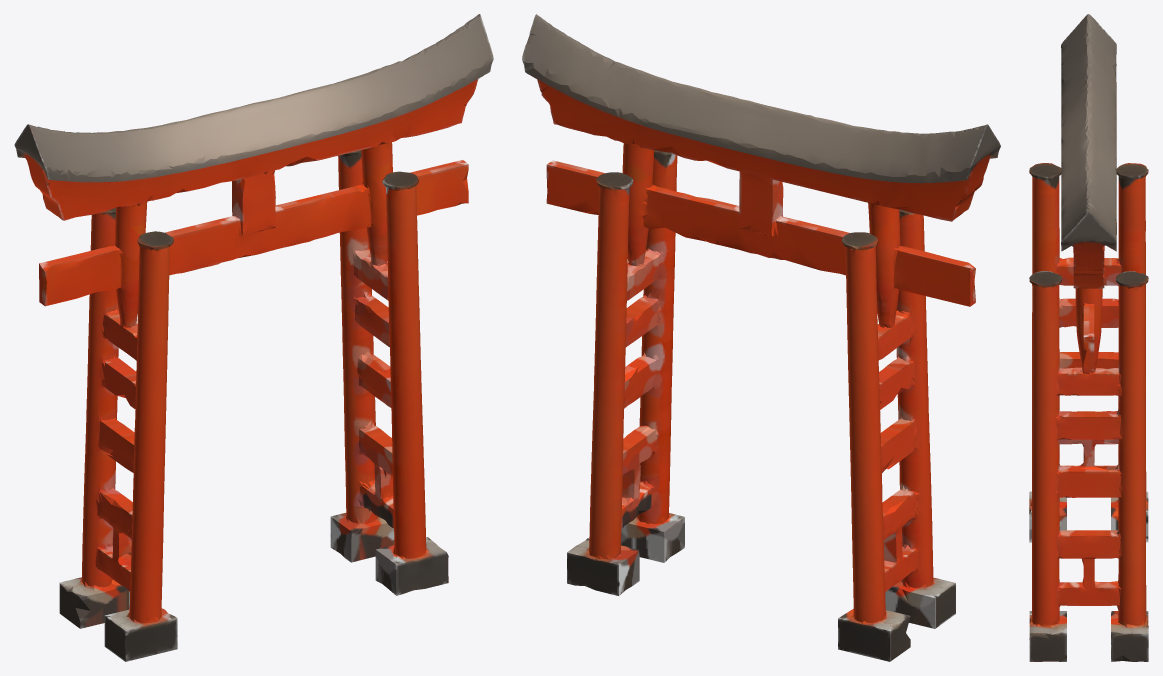
File: edo_torii.glb
The picture shows the model from 3 angles, left to right: view 1: azimuth 30°, elevation 25°; view 2: azimuth 150°, elevation 25°; view 3: azimuth 270°, elevation 25°; orthographic projection. The views are drawn at different scales.
Parts seen in each view (by area): view 1: edo_torii; view 2: edo_torii; view 3: edo_torii.
Boxes of the visible parts, bbox=[...] form: edo_torii: bbox=[14, 14, 493, 661]; edo_torii: bbox=[522, 14, 1000, 661]; edo_torii: bbox=[1029, 14, 1148, 661].
Bounding box in the file's own units: 1.69 × 1.9 × 0.4295.
1 material, 1 textured.
